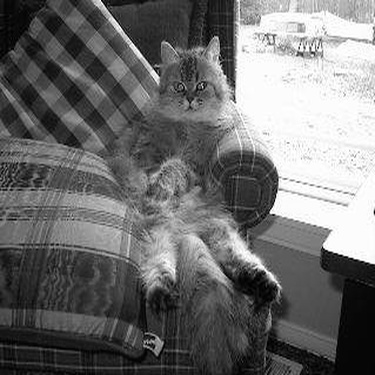cat: (115, 22, 278, 320)
